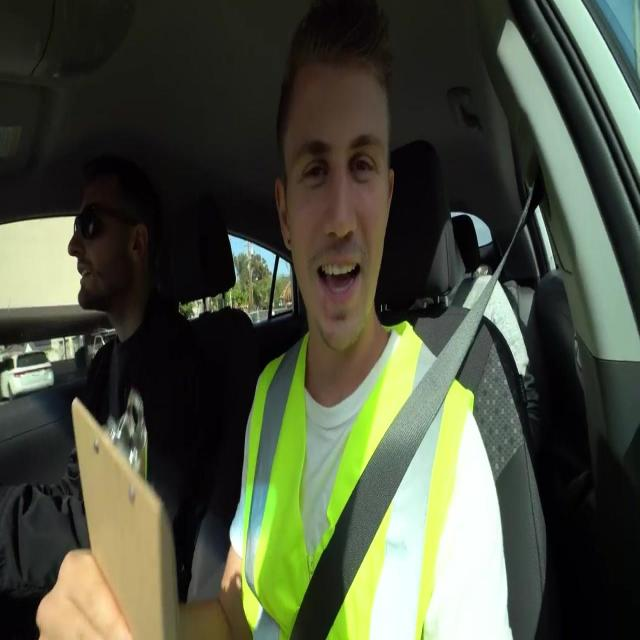Reflective-Jacket: (238, 324, 476, 638)
